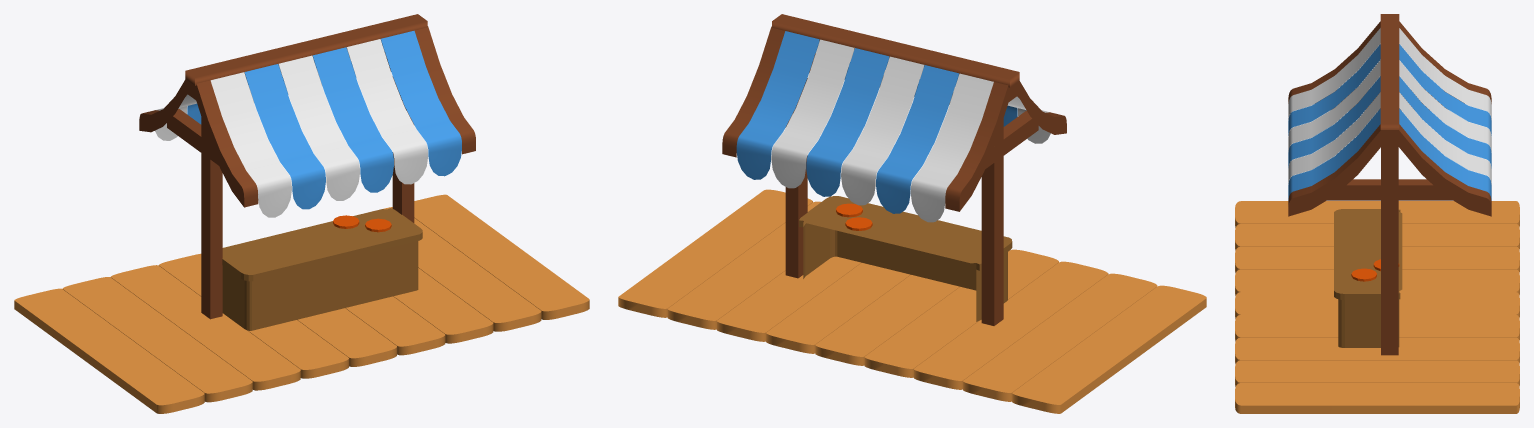
File: exchange shop.fbx
3 renders of one model, left to right at view 1: azimuth 30°, elevation 25°; view 2: azimuth 150°, elevation 25°; view 3: azimuth 270°, elevation 25°, orthographic. The views are drawn at different scales.
Visible parts, largest first — view 1: Under_Construction11; view 2: Under_Construction11; view 3: Under_Construction11.
Part boxes in pixels (left/top/right/bottom): Under_Construction11: left=14, top=14, right=589, bottom=413; Under_Construction11: left=618, top=14, right=1206, bottom=413; Under_Construction11: left=1235, top=14, right=1519, bottom=413.
Bounding box in the file's own units: 156 × 88.2 × 91.91.
